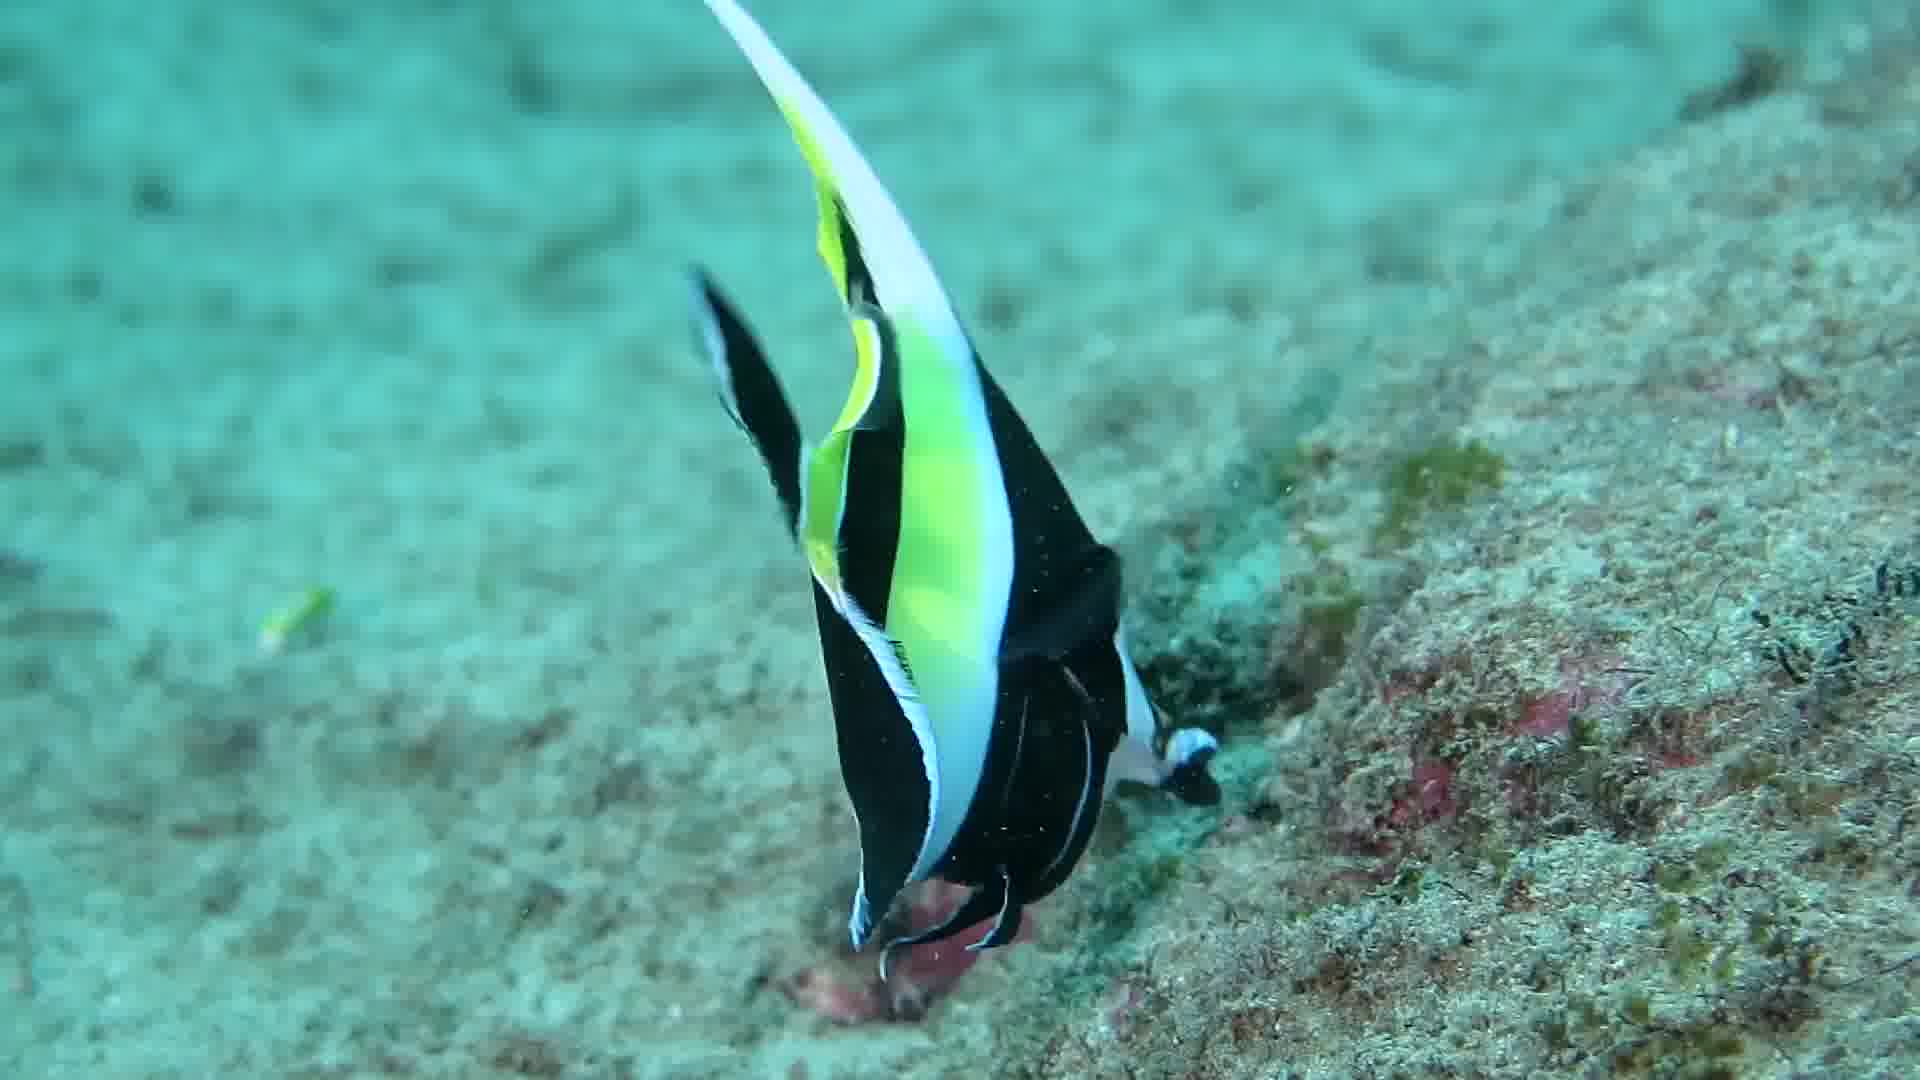Zanclus cornutus: (618, 216, 1312, 978)
